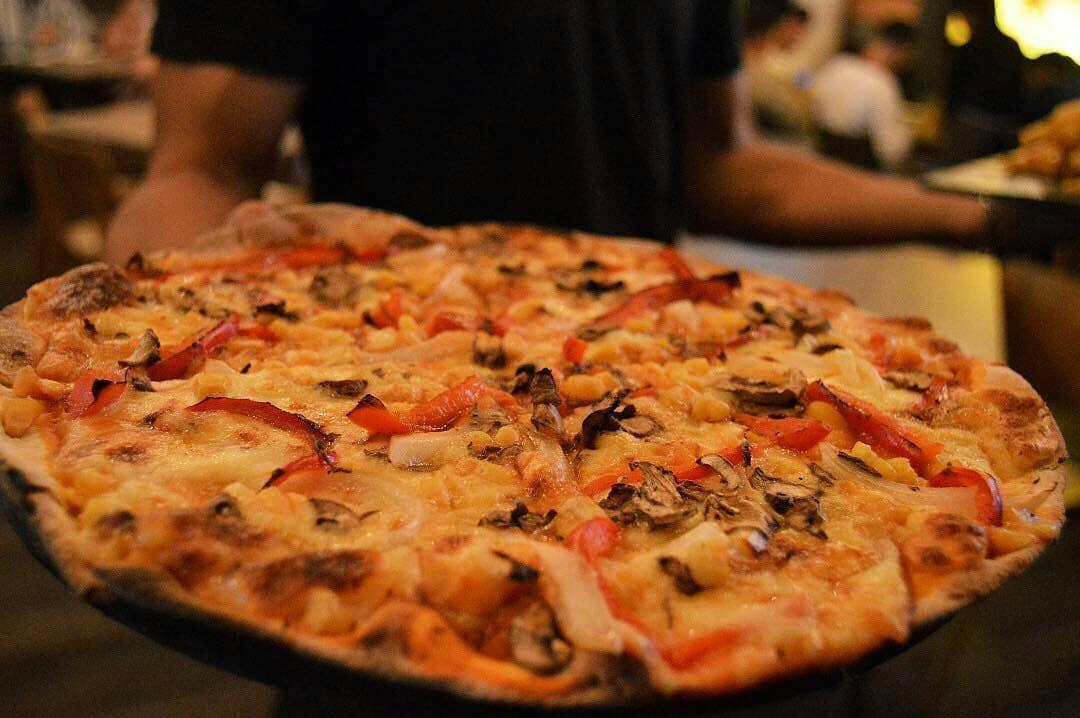Mushroom: (601, 456, 694, 527), (578, 378, 662, 456), (742, 463, 840, 525), (506, 600, 579, 678), (719, 362, 810, 415), (743, 295, 831, 342), (517, 360, 566, 440), (690, 454, 746, 516), (478, 497, 557, 540), (304, 493, 382, 536), (119, 323, 165, 395), (662, 557, 707, 601), (555, 271, 625, 299), (468, 327, 508, 368)
Peppers: (556, 513, 822, 673), (804, 379, 1008, 533), (571, 412, 834, 496), (188, 392, 345, 491), (123, 237, 396, 284), (346, 375, 518, 440), (580, 276, 736, 328), (140, 309, 239, 380), (55, 355, 132, 419), (656, 243, 703, 284)
Pizza: (0, 198, 1067, 709)
